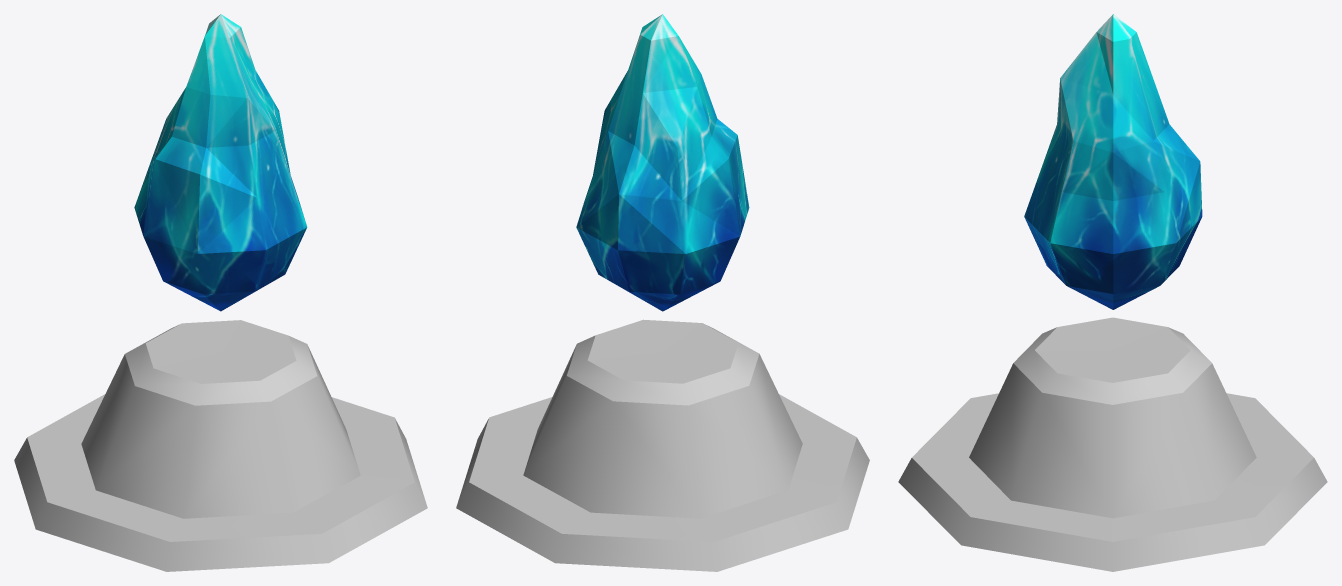
Rendered from The main city_031_LV01.FBX.
3 renders of one model, left to right at view 1: azimuth 30°, elevation 25°; view 2: azimuth 150°, elevation 25°; view 3: azimuth 270°, elevation 25°, orthographic.
Visible parts, largest first — view 1: The main city_031_LV01; view 2: The main city_031_LV01; view 3: The main city_031_LV01.
Boxes of the visible parts, x1=… form: The main city_031_LV01: x1=14, y1=14, x2=427, y2=571; The main city_031_LV01: x1=456, y1=14, x2=869, y2=571; The main city_031_LV01: x1=898, y1=14, x2=1327, y2=571.
Bounding box in the file's own units: 85.84 × 104 × 86.55.
